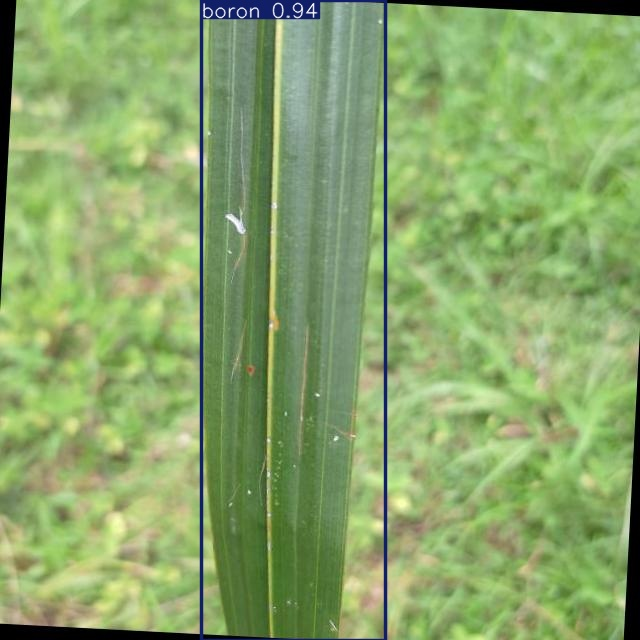nitrogen: (202, 0, 385, 640)
